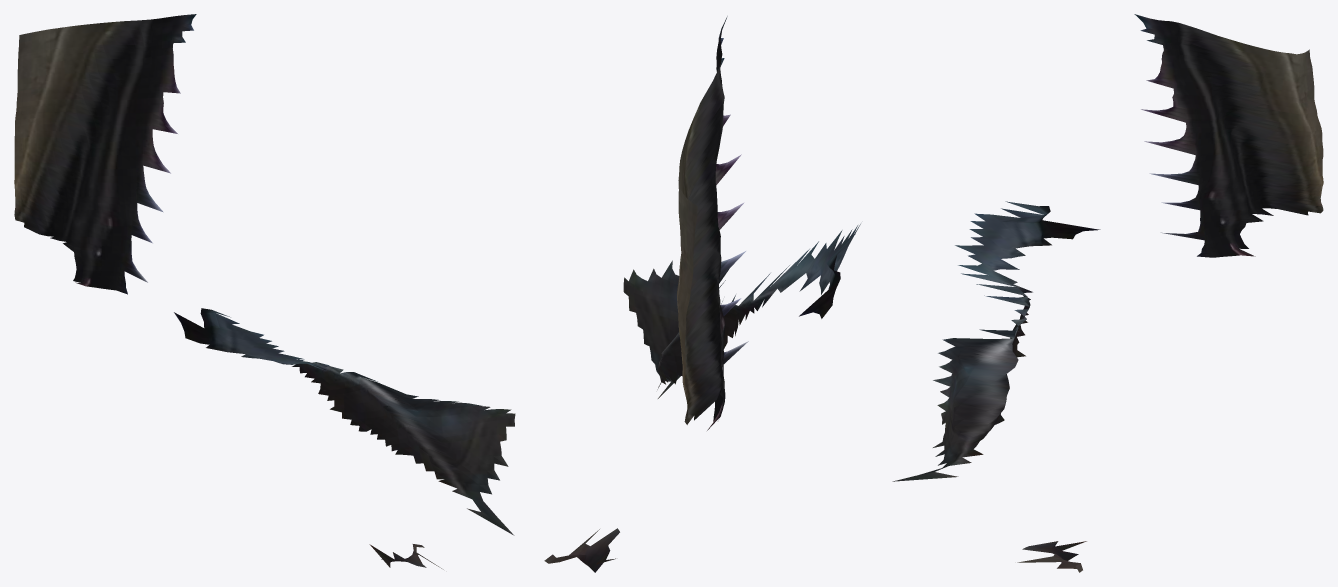
The model's file is observed-surface.glb.
The picture shows the model from 3 angles, left to right: view 1: azimuth 30°, elevation 25°; view 2: azimuth 150°, elevation 25°; view 3: azimuth 270°, elevation 25°; orthographic projection. The views are drawn at different scales.
Visible parts, largest first — view 1: geometry_0; view 2: geometry_0; view 3: geometry_0.
Boxes of the visible parts, x1,y1,x2,y2 form: geometry_0: (14, 14, 515, 569); geometry_0: (544, 16, 860, 572); geometry_0: (892, 14, 1323, 572).
Size of the model in its own units: 0.4004 by 0.7638 by 0.6242.
1 material, 1 textured.
